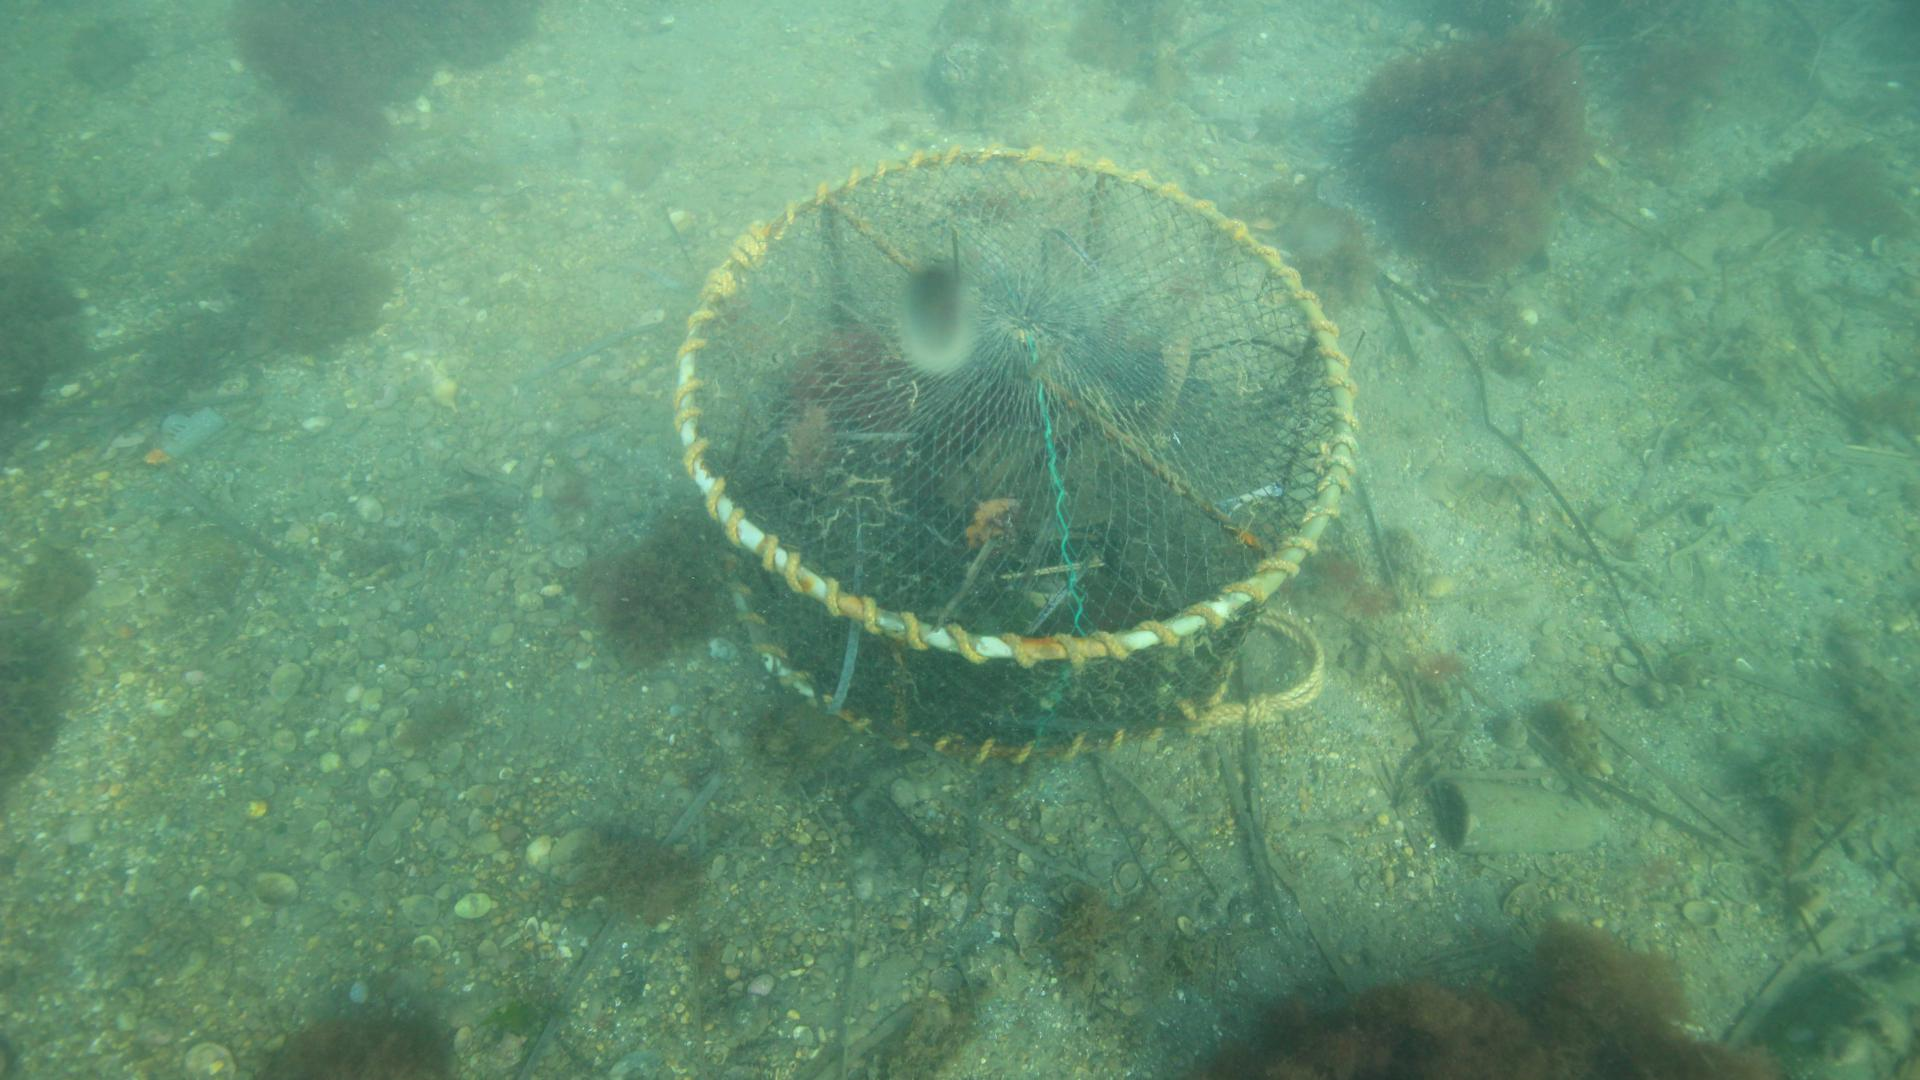bundle of ropes: (1211, 605, 1324, 729)
circular fish trap: (669, 138, 1360, 764)
